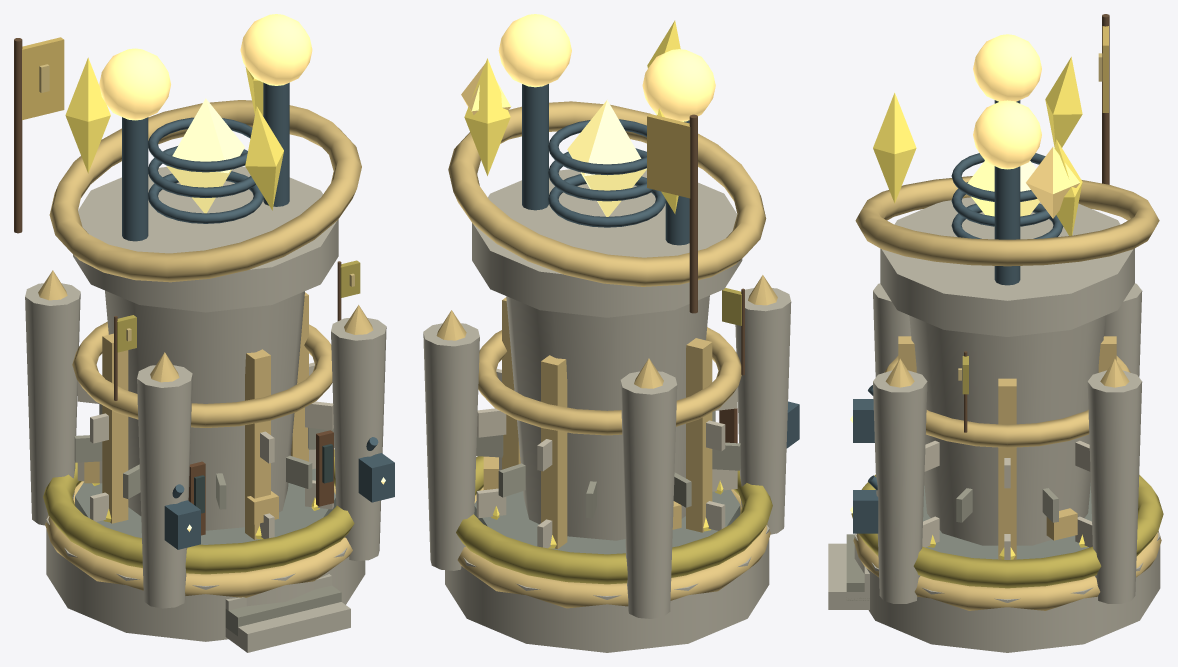
Rendered from tower-thunder-3-1.glb.
3 renders of one model, left to right at view 1: azimuth 30°, elevation 25°; view 2: azimuth 150°, elevation 25°; view 3: azimuth 270°, elevation 25°, orthographic. The views are drawn at different scales.
Visible parts, largest first — view 1: Foundation, Turret, thunder-L3-1; view 2: Foundation, Turret, thunder-L3-1; view 3: Foundation, Turret, thunder-L3-1.
Boxes of the visible parts, x1,y1,x2,y2 form: Foundation: (14,37,394,652); Turret: (49,14,361,312); thunder-L3-1: (46,468,365,641); Foundation: (423,114,799,618); Turret: (448,14,766,317); thunder-L3-1: (445,489,769,652); Foundation: (828,14,1163,610); Turret: (855,34,1159,336); thunder-L3-1: (854,483,1160,652).
Size of the model in its own units: 1.72 by 3.14 by 1.84.
